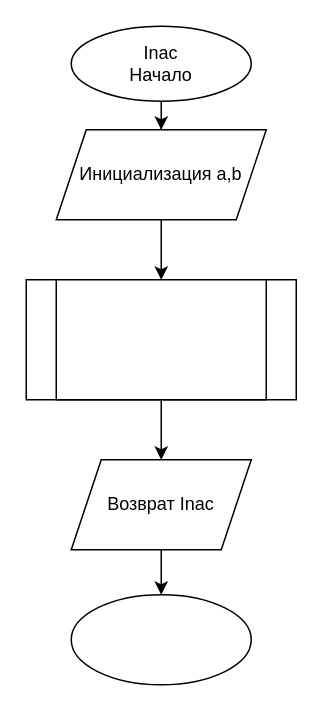
Some shapes in this 323 by 711 pixel diagram are drawn without their labels. Here are the shapes that lost their labels. From the top down, the centre of each, then its label:
At (x=160, y=339): "Inac:=((ExactIntegral(a, b) - ans)/ExactIntegral(a, b))*100".
At (x=160, y=639): "Inac Конец".
